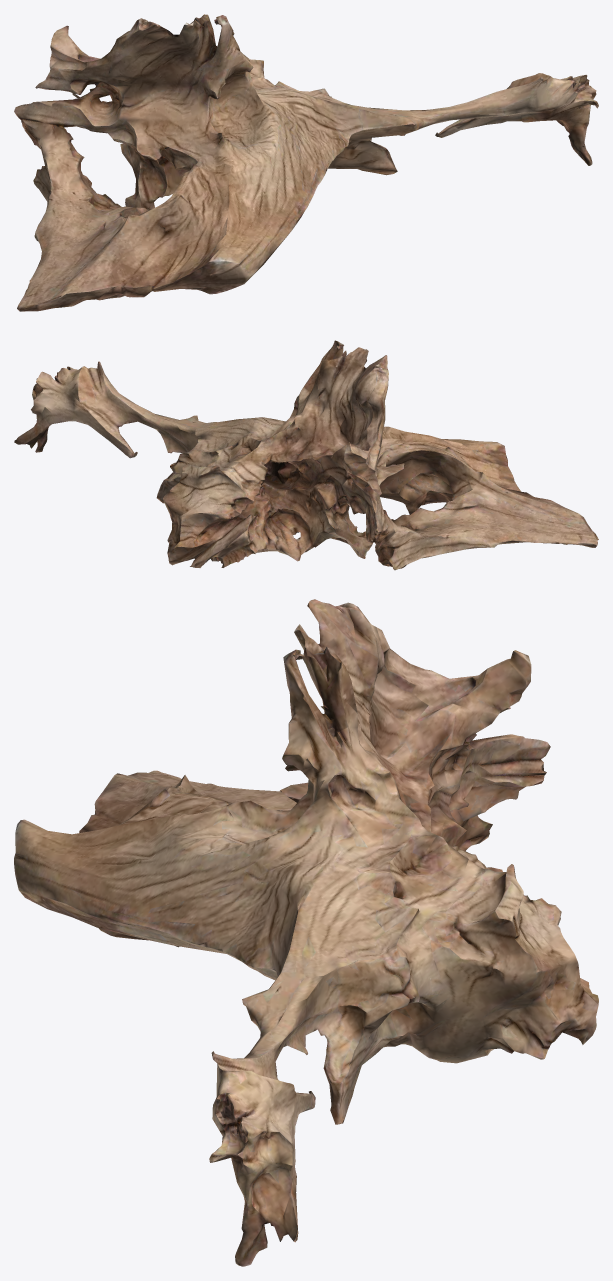
File: driftwood.glb
3 views of the same model, one above another, from view 1: azimuth 30°, elevation 25°; view 2: azimuth 150°, elevation 25°; view 3: azimuth 270°, elevation 25° (orthographic). The views are drawn at different scales.
Parts seen in each view (by area): view 1: Object_2; view 2: Object_2; view 3: Object_2.
Boxes of the visible parts, x1,y1,x2,y2 form: Object_2: (14, 14, 598, 311); Object_2: (14, 340, 598, 570); Object_2: (14, 599, 598, 1266).
Bounding box in the file's own units: 0.8442 × 0.2979 × 0.448.
1 material, 1 textured.
